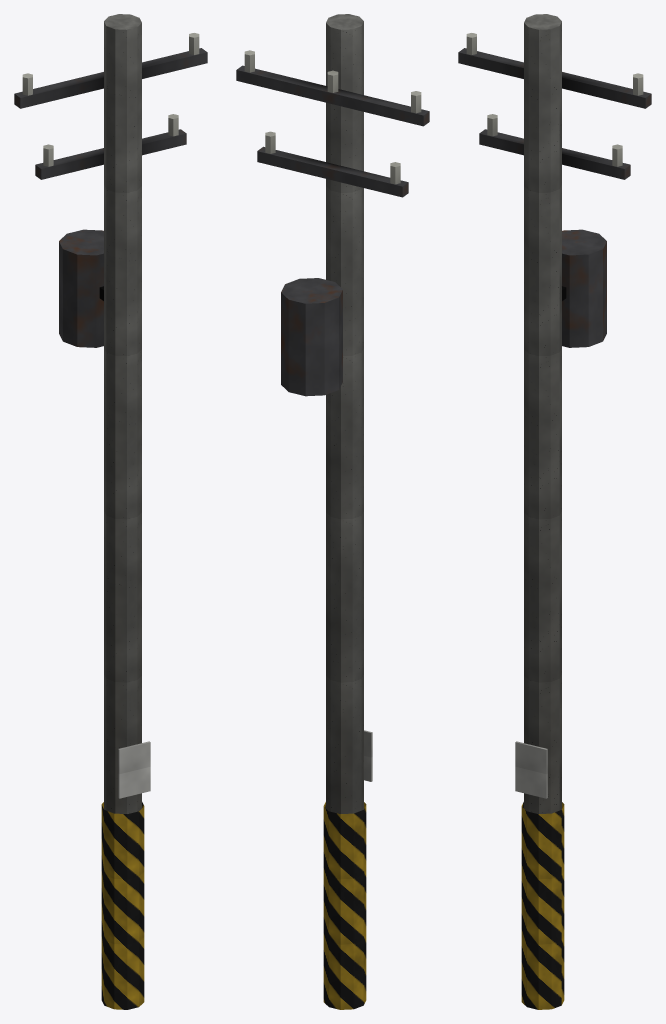
The model's file is utility_pole.glb.
3 views of the same model, side by side, from view 1: azimuth 30°, elevation 25°; view 2: azimuth 150°, elevation 25°; view 3: azimuth 330°, elevation 25° (orthographic).
Parts seen in each view (by area): view 1: utility_pole; view 2: utility_pole; view 3: utility_pole.
Boxes of the visible parts, box(x1,y1,x2,y2) form: utility_pole: box(14, 14, 207, 1009); utility_pole: box(236, 14, 429, 1009); utility_pole: box(458, 14, 651, 1009).
Bounding box in the file's own units: 1.8 × 9 × 0.9973.
Materials: 5 (5 with a texture image).
